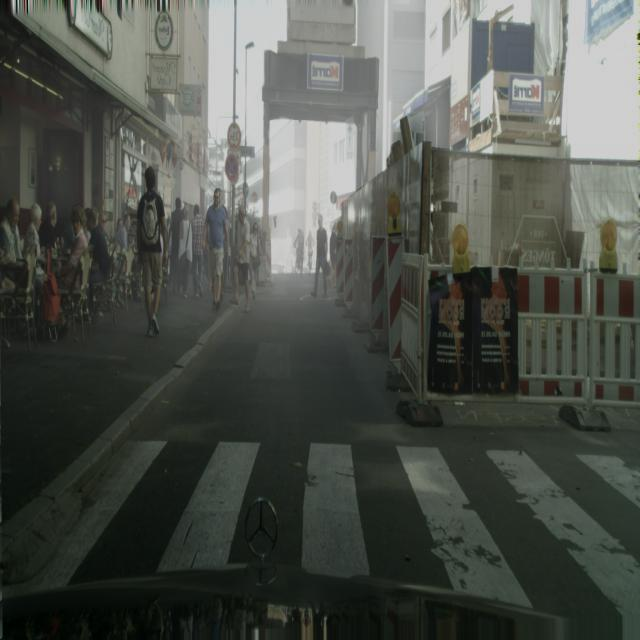person: (135, 164, 168, 338), (204, 188, 230, 312), (234, 203, 252, 312), (177, 201, 193, 298), (0, 198, 23, 263), (312, 217, 330, 299), (191, 204, 205, 299)
